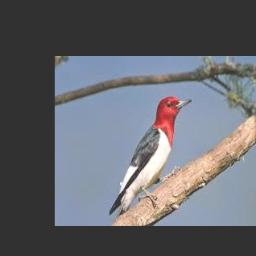Woodpecker: (109, 96, 192, 221)
